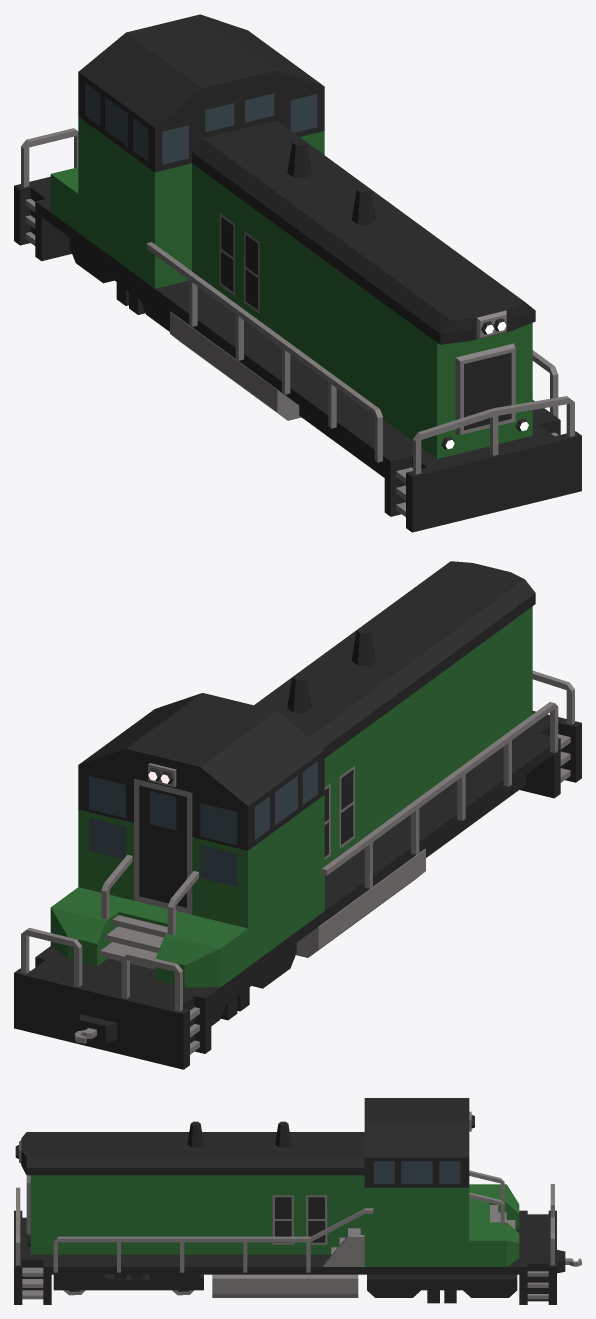
Rendered from vehicles_train-freight-short.fbx.
3 renders of one model, top to bottom at view 1: azimuth 30°, elevation 25°; view 2: azimuth 150°, elevation 25°; view 3: azimuth 270°, elevation 25°, orthographic. The views are drawn at different scales.
Visible parts, largest first — view 1: train_freight_short_base, train_freight_short_wheel_frame_B, train_freight_short_wheel_frame_F; view 2: train_freight_short_base, train_freight_short_wheel_frame_B, train_freight_short_wheel_frame_F; view 3: train_freight_short_base, train_freight_short_wheel_frame_B, train_freight_short_wheel_frame_F.
Boxes of the visible parts, x1,y1,x2,y2 form: train_freight_short_base: (14, 14, 581, 532); train_freight_short_wheel_frame_B: (69, 238, 170, 331); train_freight_short_wheel_frame_F: (299, 406, 384, 477); train_freight_short_base: (14, 561, 581, 1069); train_freight_short_wheel_frame_B: (211, 943, 296, 1025); train_freight_short_wheel_frame_F: (425, 775, 526, 857); train_freight_short_base: (14, 1098, 581, 1304); train_freight_short_wheel_frame_B: (367, 1274, 517, 1303); train_freight_short_wheel_frame_F: (53, 1274, 203, 1290).
Bounding box in the file's own units: 50 × 67.72 × 200.
